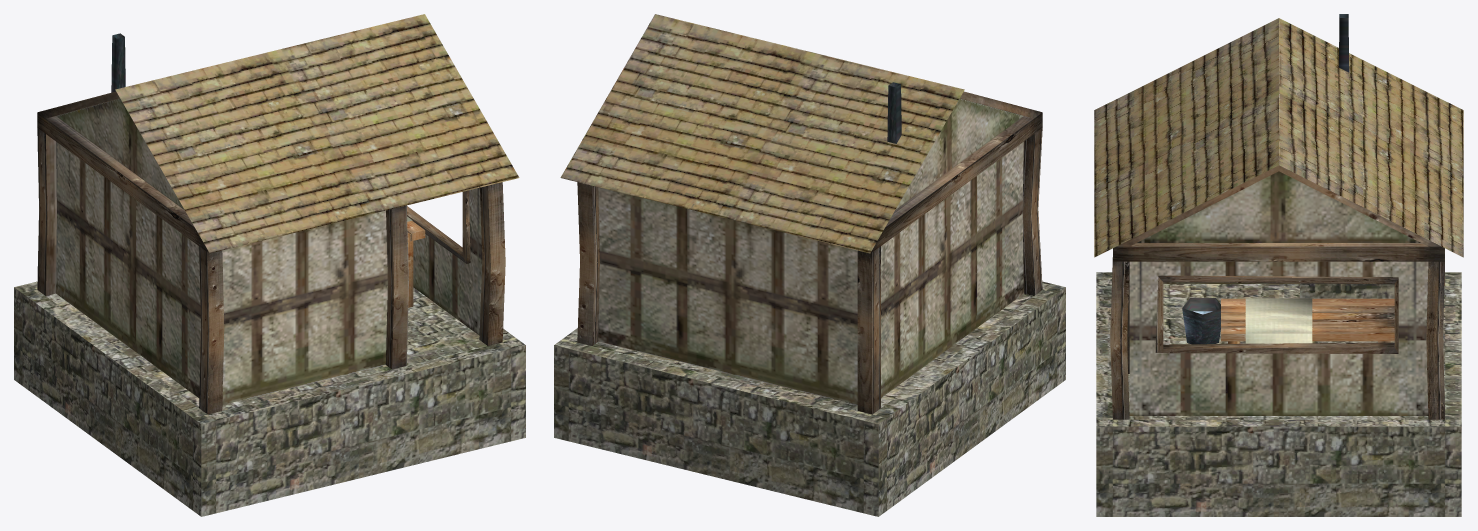
File: building_bakery_workshop.glb
The picture shows the model from 3 angles, left to right: view 1: azimuth 30°, elevation 25°; view 2: azimuth 150°, elevation 25°; view 3: azimuth 270°, elevation 25°; orthographic projection. The views are drawn at different scales.
Parts seen in each view (by area): view 1: building_bakery_workshop; view 2: building_bakery_workshop; view 3: building_bakery_workshop.
Boxes of the visible parts, x1,y1,x2,y2 form: building_bakery_workshop: (14, 14, 525, 516); building_bakery_workshop: (554, 14, 1065, 516); building_bakery_workshop: (1094, 14, 1463, 516).
Bounding box in the file's own units: 4.4 × 4.89 × 4.45.
Materials: 7 (7 with a texture image).
